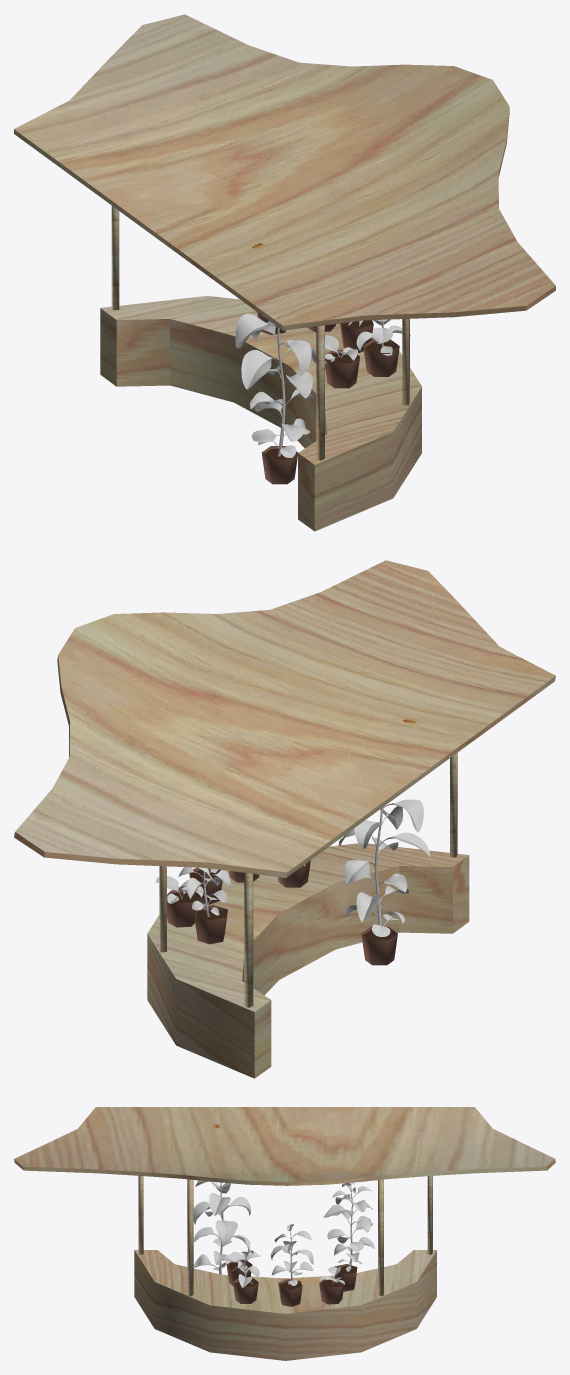
Rendered from Shop2.fbx.
3 views of the same model, one above another, from view 1: azimuth 30°, elevation 25°; view 2: azimuth 150°, elevation 25°; view 3: azimuth 270°, elevation 25° (orthographic). The views are drawn at different scales.
Parts seen in each view (by area): view 1: BezierCurve.003, Cylinder.015, nettle_plant_tall_a_LOD0, Cube.005, Cylinder.011, Cylinder.010, Cylinder.012, nettle_plant_small_a_LOD0, Cylinder.013; view 2: BezierCurve.003, Cylinder.015, nettle_plant_tall_a_LOD0, Cube.005, nettle_plant_tall_b_LOD0, Cylinder.012, Cylinder.014, Cylinder.017; view 3: BezierCurve.003, Cylinder.015, Cube.005, nettle_plant_tall_a_LOD0, nettle_plant_tall_b_LOD0, nettle_plant_medium_b_LOD0, Cylinder.017, Cylinder.013, Cylinder.011, nettle_plant_small_a_LOD0, Cylinder.014, Cylinder.010.
Boxes of the visible parts, x1=… form: BezierCurve.003: x1=14, y1=14, x2=555, y2=330; Cylinder.015: x1=100, y1=296, x2=421, y2=531; nettle_plant_tall_a_LOD0: x1=235, y1=313, x2=316, y2=457; Cube.005: x1=111, y1=206, x2=409, y2=460; Cylinder.011: x1=363, y1=339, x2=399, y2=376; Cylinder.010: x1=325, y1=350, x2=359, y2=388; Cylinder.012: x1=262, y1=446, x2=297, y2=484; nettle_plant_small_a_LOD0: x1=356, y1=319, x2=410, y2=355; Cylinder.013: x1=340, y1=320, x2=373, y2=352; BezierCurve.003: x1=14, y1=560, x2=555, y2=877; Cylinder.015: x1=147, y1=843, x2=469, y2=1078; nettle_plant_tall_a_LOD0: x1=338, y1=799, x2=430, y2=937; Cube.005: x1=159, y1=753, x2=457, y2=1007; nettle_plant_tall_b_LOD0: x1=178, y1=867, x2=230, y2=917; Cylinder.012: x1=361, y1=927, x2=397, y2=965; Cylinder.014: x1=194, y1=905, x2=227, y2=944; Cylinder.017: x1=167, y1=889, x2=200, y2=927; BezierCurve.003: x1=14, y1=1107, x2=555, y2=1185; Cylinder.015: x1=134, y1=1250, x2=436, y2=1360; Cube.005: x1=138, y1=1175, x2=432, y2=1296; nettle_plant_tall_a_LOD0: x1=193, y1=1180, x2=250, y2=1274; nettle_plant_tall_b_LOD0: x1=323, y1=1182, x2=374, y2=1271; nettle_plant_medium_b_LOD0: x1=270, y1=1224, x2=313, y2=1285; Cylinder.017: x1=319, y1=1277, x2=344, y2=1304; Cylinder.013: x1=278, y1=1279, x2=302, y2=1306; Cylinder.011: x1=233, y1=1278, x2=258, y2=1303; nettle_plant_small_a_LOD0: x1=231, y1=1247, x2=259, y2=1287; Cylinder.014: x1=334, y1=1264, x2=357, y2=1291; Cylinder.010: x1=226, y1=1259, x2=252, y2=1285.
Size of the model in its own units: 557 by 466 by 1072.
